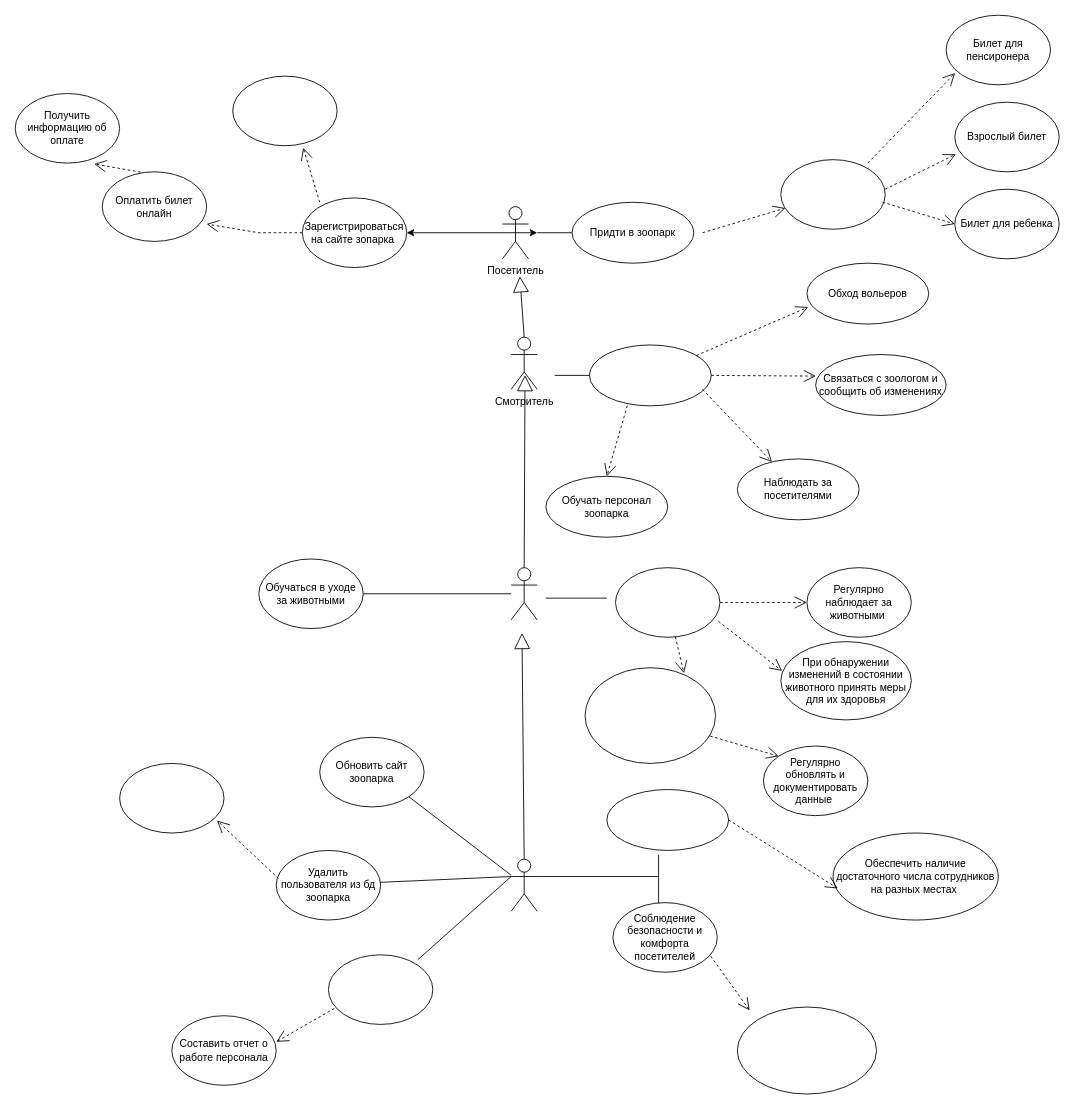
This 1074x1109 diagram has some shape labels left out. Here are the shapes that lost their labels. From the top down, the box of each, then its label:
(232, 75, 337, 146): Посмотреть информацию о зоопарке
(780, 159, 885, 229): Купить билет
(589, 344, 711, 406): Смотреть за животными
(510, 567, 537, 620): Зоолог
(615, 567, 720, 637): Ухаживать за животными
(584, 667, 716, 763): Участвовать в научных исследованиях, собирая данные о животных и их поведении
(119, 763, 224, 833): Обновить информацию о пользователях
(606, 789, 729, 850): Распределить задачи между сотрудниками
(510, 858, 537, 911): Администратор
(328, 954, 433, 1024): Составить отчет
(736, 1006, 877, 1094): В случае возникновения конфликтов от посетителей принять соответствующие меры
